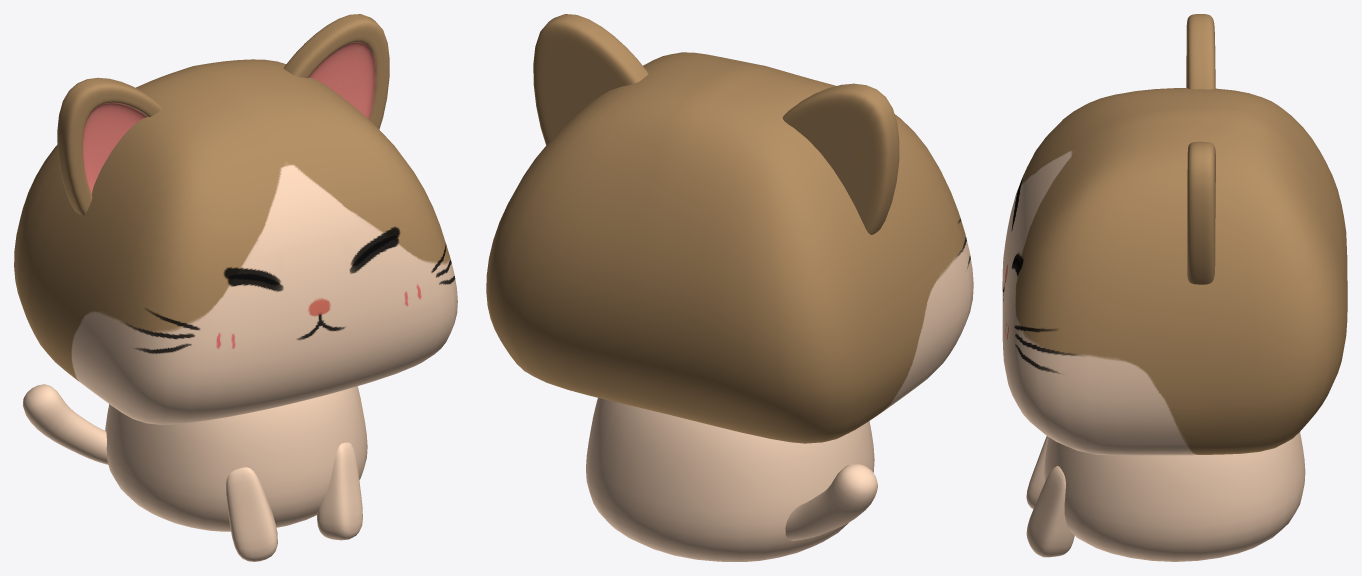
3 renders of one model, left to right at view 1: azimuth 30°, elevation 25°; view 2: azimuth 150°, elevation 25°; view 3: azimuth 270°, elevation 25°, orthographic. The views are drawn at different scales.
Visible parts, largest first — view 1: head, body, ears, foot, tail; view 2: head, body, ears, tail; view 3: head, body, ears, foot.
Boxes of the visible parts, x1,y1,x2,y2 form: head: [14, 59, 457, 424]; body: [105, 386, 367, 531]; ears: [57, 14, 389, 215]; foot: [226, 442, 362, 561]; tail: [22, 384, 108, 464]; head: [486, 52, 973, 443]; body: [586, 398, 874, 561]; ears: [533, 14, 899, 234]; tail: [785, 463, 877, 540]; head: [1002, 88, 1347, 455]; body: [1044, 432, 1305, 561]; ears: [1186, 14, 1215, 284]; foot: [1026, 436, 1074, 557].
Size of the model in its own units: 0.2495 by 0.3141 by 0.2175.
3 materials, 3 textured.
